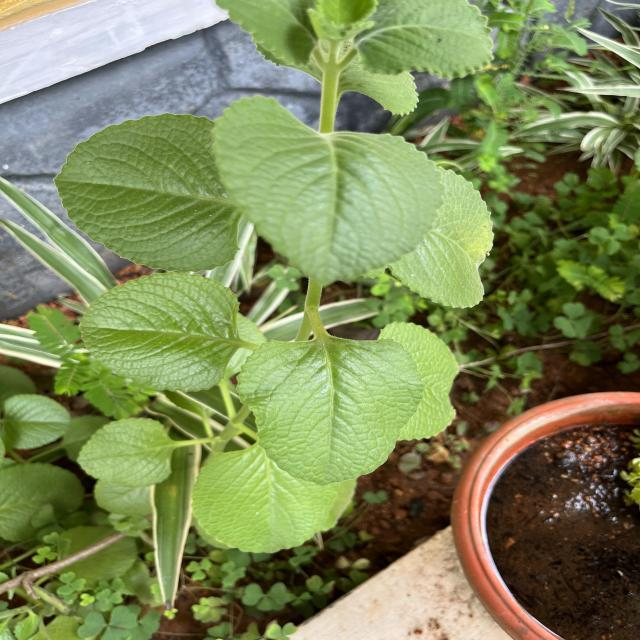Plectranthus barbatus: (211, 93, 447, 290), (51, 112, 242, 273), (234, 336, 426, 487), (78, 272, 239, 394), (192, 445, 340, 555), (388, 164, 496, 310), (76, 417, 174, 487), (0, 461, 83, 542), (2, 392, 72, 450)
